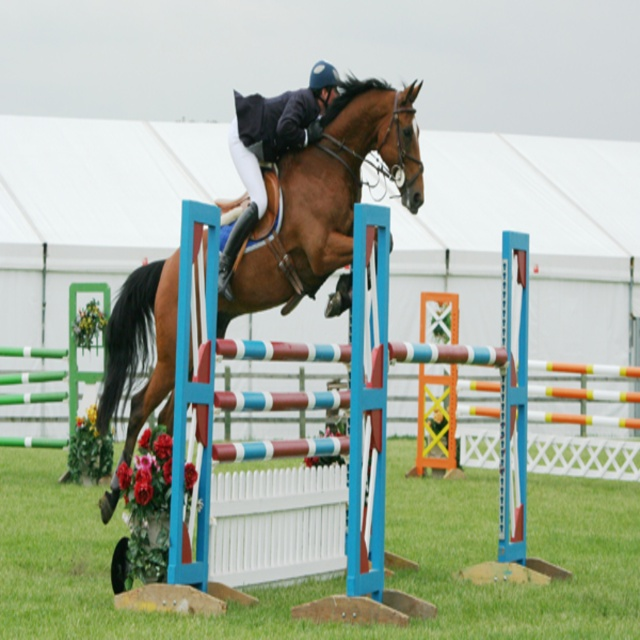Horse: (95, 71, 425, 524)
